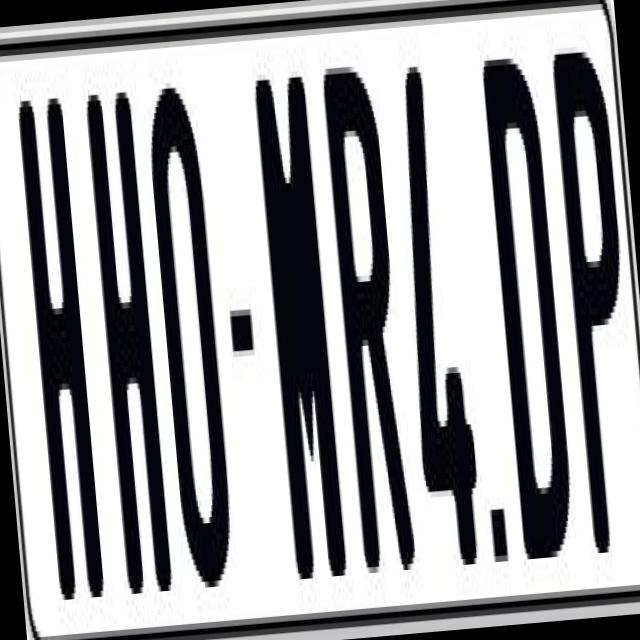0: (141, 68, 244, 600)
4: (388, 58, 494, 596)
D: (477, 57, 573, 560)
H: (15, 85, 106, 606), (80, 86, 170, 588)
M: (250, 76, 348, 580)
P: (548, 46, 634, 560)
R: (316, 59, 414, 585)
